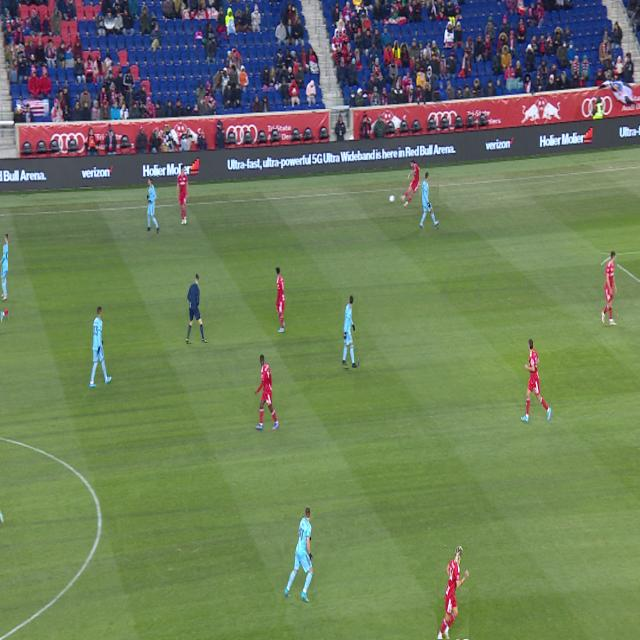football: (390, 195, 394, 202)
player: (437, 547, 469, 639), (285, 506, 314, 603), (521, 339, 552, 423), (255, 354, 280, 430), (89, 307, 112, 388), (602, 252, 617, 326), (343, 295, 358, 368), (420, 173, 439, 228), (400, 159, 420, 207), (176, 166, 189, 225), (147, 177, 159, 234), (276, 267, 285, 332), (0, 234, 8, 301), (0, 308, 8, 323), (0, 509, 5, 524)
referee: (186, 274, 208, 343)
